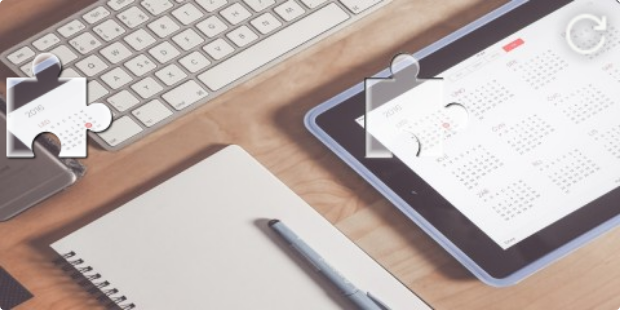target: (365, 53, 469, 159)
